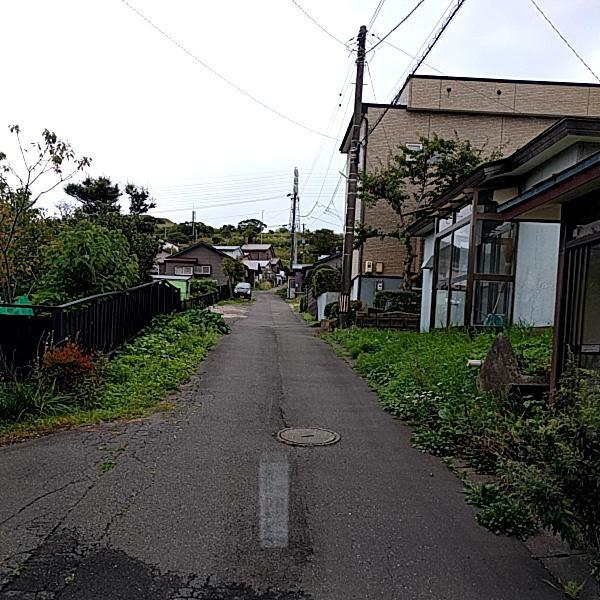D20: (0, 420, 160, 599)
D50: (273, 424, 341, 446)
